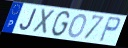7: (82, 14, 106, 40)
G: (50, 10, 71, 38)
J: (18, 8, 38, 32)
O: (67, 13, 88, 39)
P: (98, 16, 122, 44)
X: (31, 8, 57, 36)
